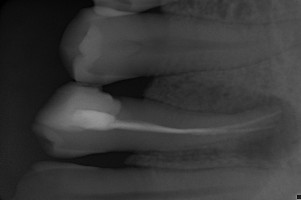Furcation Involvement: (226, 90, 301, 162)
